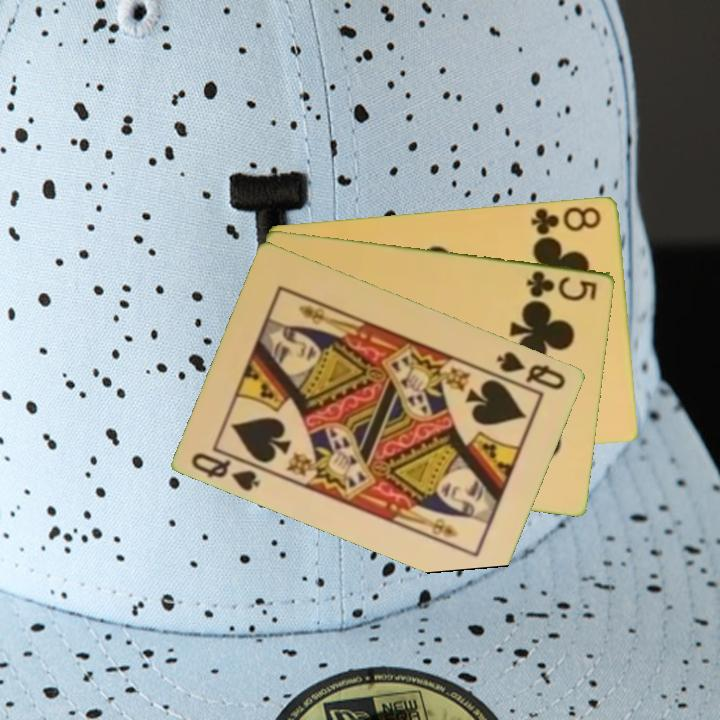5c: (523, 267, 601, 304)
8c: (527, 202, 605, 238)
Qs: (493, 347, 569, 393), (188, 448, 264, 494)
